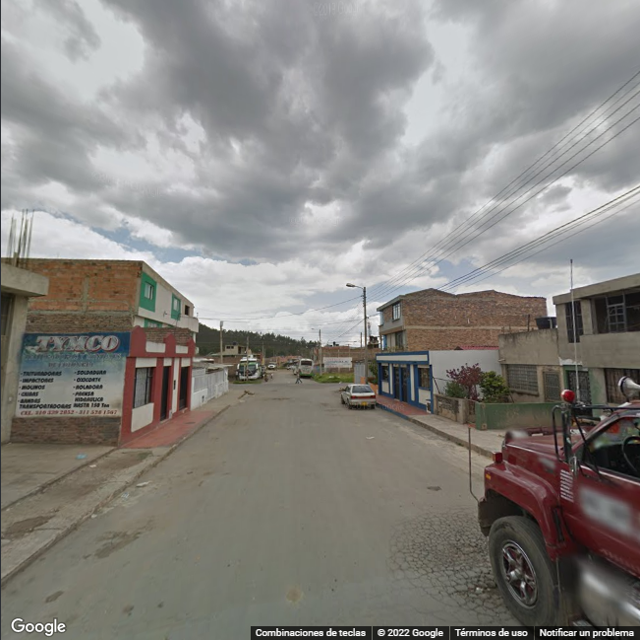D20: (400, 507, 508, 615)
